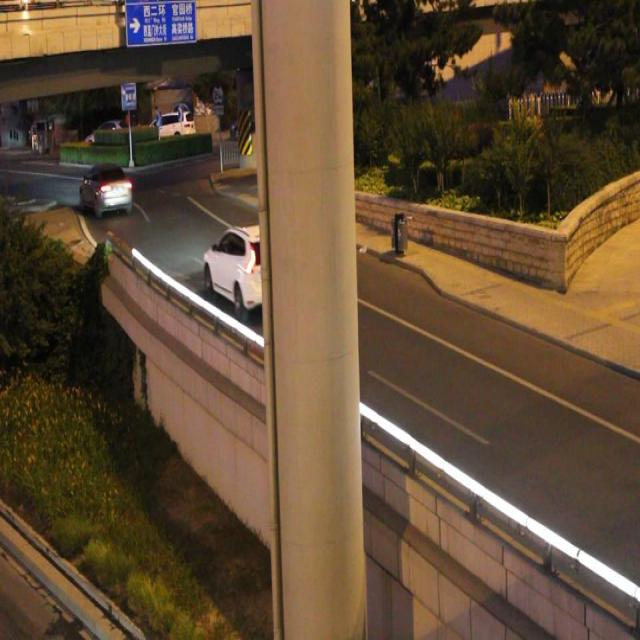car: (203, 222, 291, 315), (79, 162, 131, 217)
